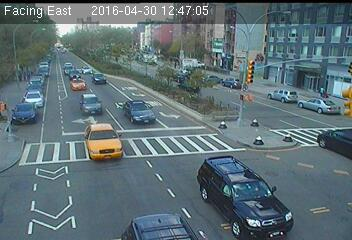neg: (201, 111, 229, 148), (276, 117, 303, 153), (243, 57, 269, 92), (16, 29, 41, 62), (24, 86, 46, 116), (95, 73, 117, 102), (126, 171, 147, 200), (65, 109, 86, 137), (301, 27, 322, 55), (260, 178, 280, 205), (29, 166, 48, 192), (239, 134, 257, 158), (156, 47, 174, 71), (211, 42, 226, 62)
pos: (316, 81, 329, 99)
